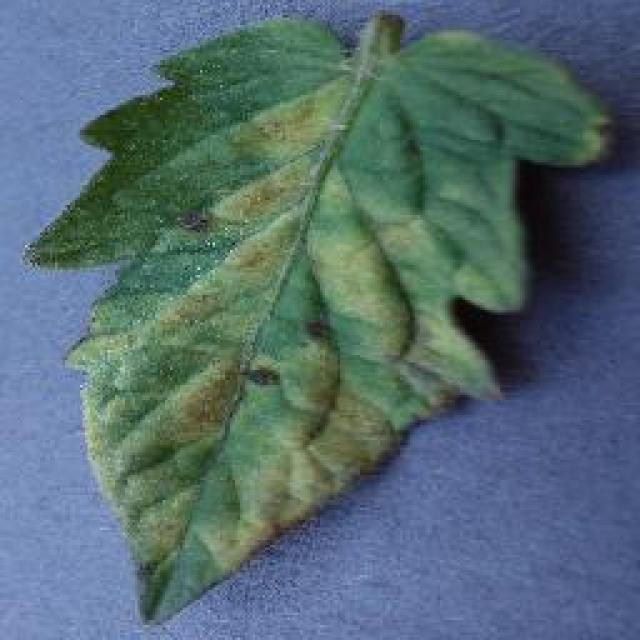leaf mold: (17, 13, 614, 630)
